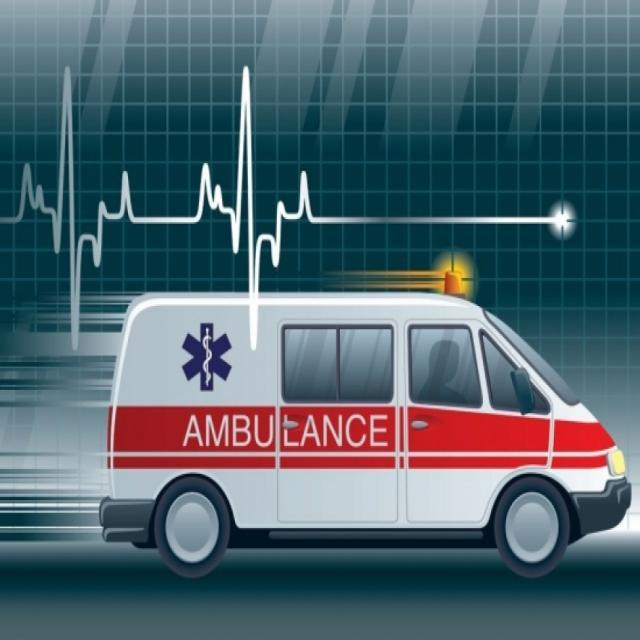emergency-vehicle: (67, 252, 639, 580)
